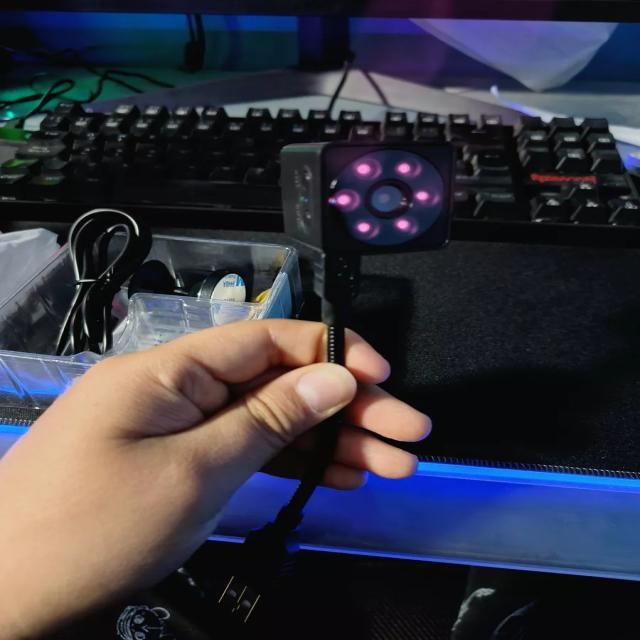hidden camera: (365, 179, 412, 220)
